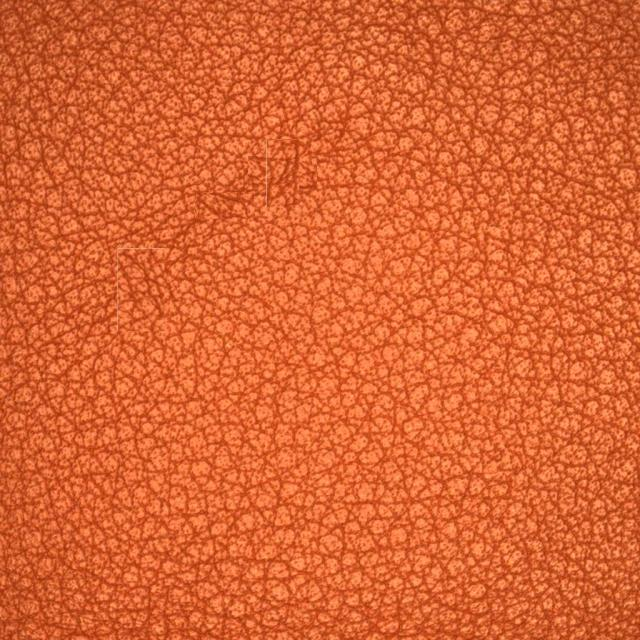Healed Injury: (73, 238, 208, 342), (233, 134, 345, 225)
